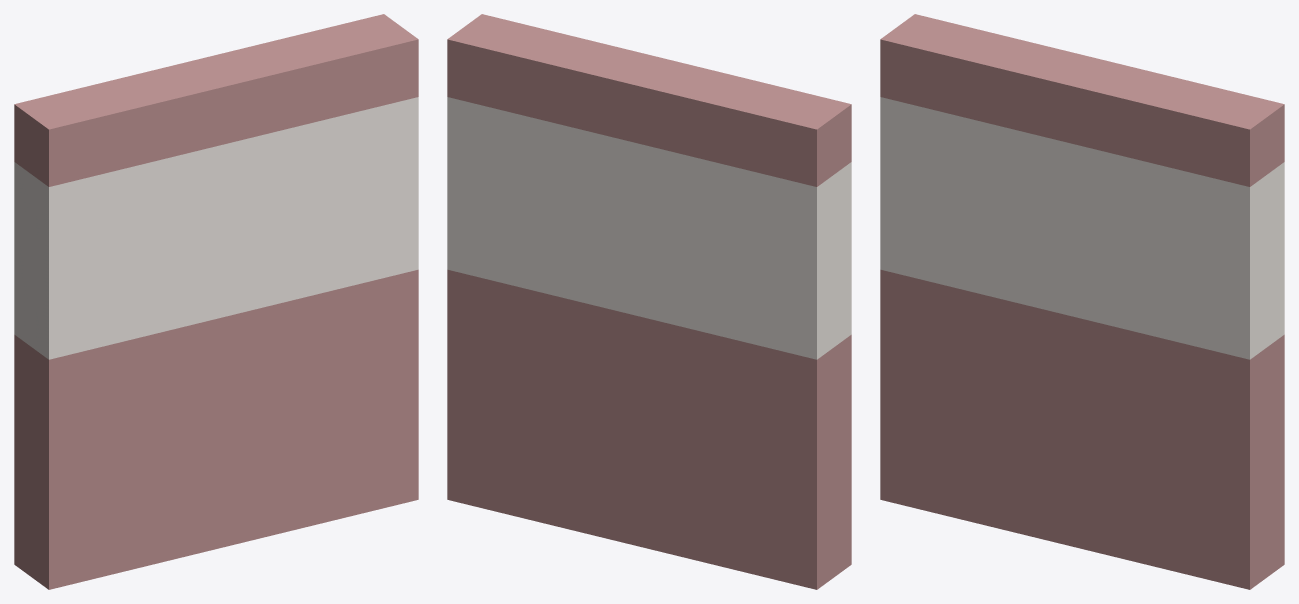
The model's file is Walls.fbx.
The picture shows the model from 3 angles, left to right: view 1: azimuth 30°, elevation 25°; view 2: azimuth 150°, elevation 25°; view 3: azimuth 330°, elevation 25°; orthographic projection.
Visible parts, largest first — view 1: Cube.029; view 2: Cube.029; view 3: Cube.029.
Boxes of the visible parts, x1=… form: Cube.029: x1=14, y1=14, x2=418, y2=589; Cube.029: x1=447, y1=14, x2=851, y2=589; Cube.029: x1=880, y1=14, x2=1284, y2=589.
Bounding box in the file's own units: 4 × 4.76 × 0.6501.
